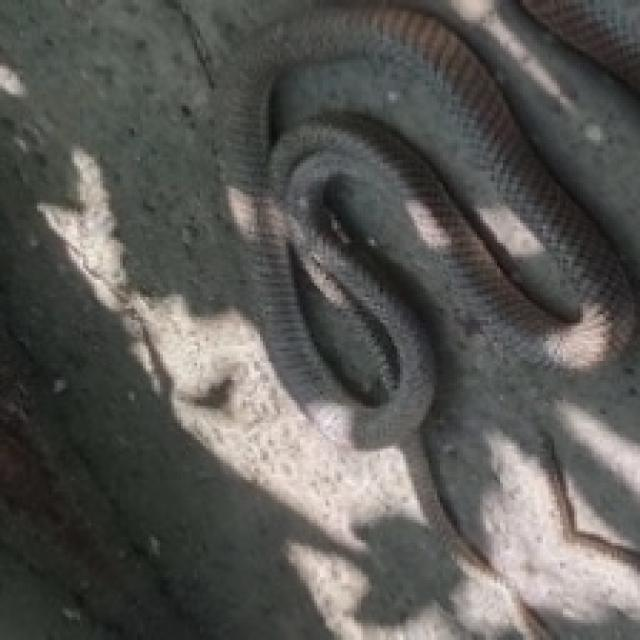paradise tree snake: (217, 6, 637, 637)
